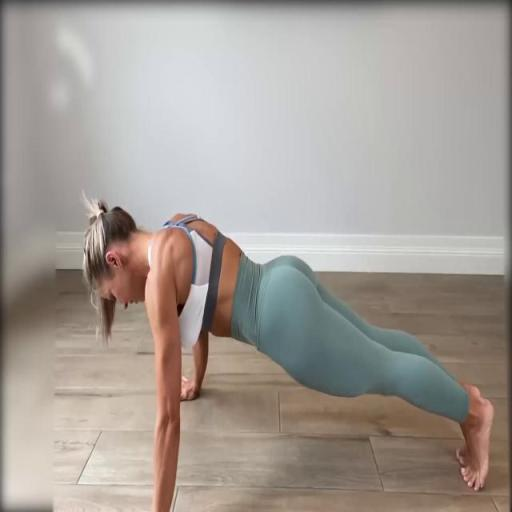Normal_BrenchPress: (80, 195, 496, 507)
